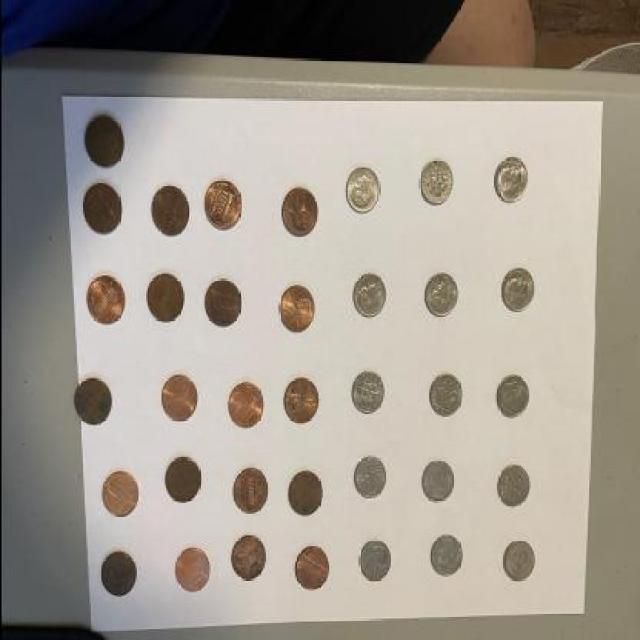Dime: (491, 150, 531, 207), (500, 266, 536, 319), (416, 155, 452, 208), (348, 269, 384, 322), (494, 372, 531, 422), (357, 537, 394, 586), (428, 371, 462, 424), (421, 457, 457, 506), (496, 463, 530, 512), (344, 167, 378, 216), (502, 537, 536, 585), (430, 535, 464, 583), (423, 272, 457, 318), (352, 454, 386, 500), (349, 370, 383, 416)
Penny: (78, 114, 122, 170), (280, 374, 320, 431), (200, 278, 243, 331), (144, 270, 184, 326), (148, 184, 188, 238), (158, 372, 198, 425), (80, 182, 120, 235), (222, 382, 264, 432), (84, 274, 124, 326), (203, 178, 240, 234), (74, 376, 111, 432), (162, 455, 200, 508), (171, 546, 211, 596), (229, 464, 266, 518), (280, 189, 317, 242), (276, 281, 312, 334), (291, 546, 331, 592), (98, 470, 138, 516), (286, 471, 323, 520), (97, 551, 134, 597), (228, 534, 264, 580)
